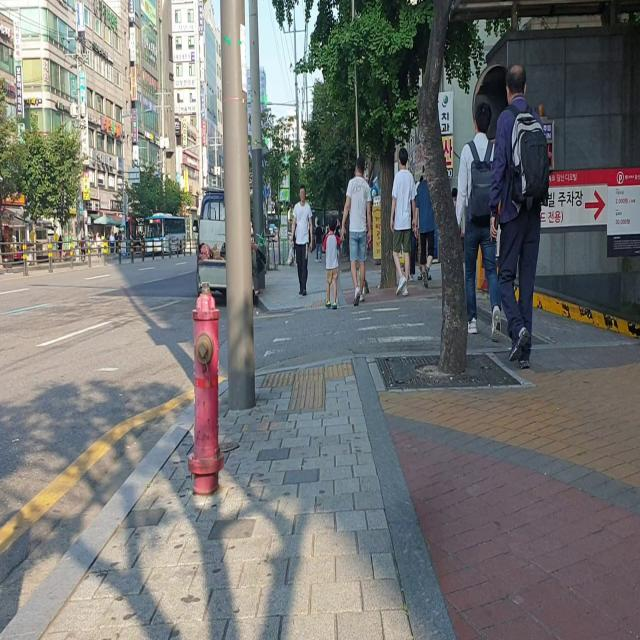횡단보도: (262, 302, 443, 360)
